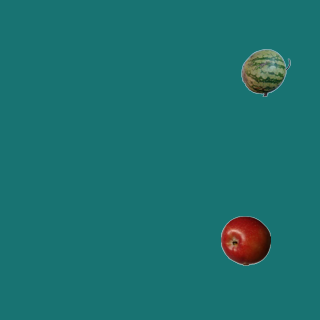Apple Braeburn: (220, 215, 270, 265)
Watermelon: (240, 47, 290, 97)
